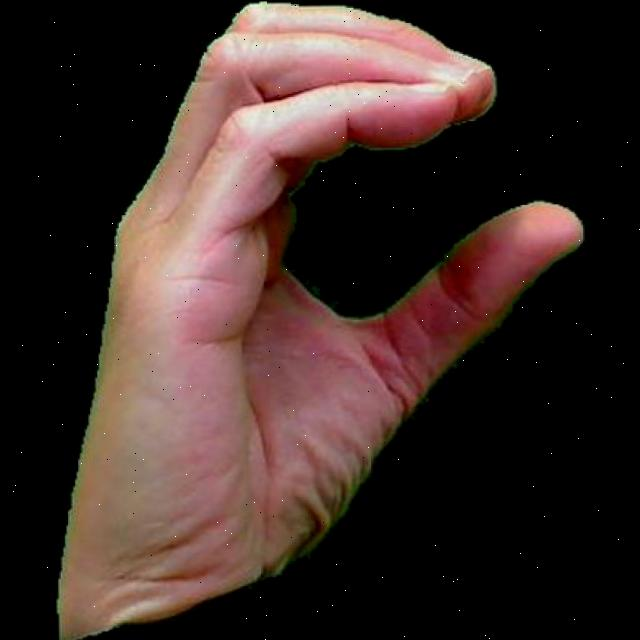c: (31, 0, 593, 640)
